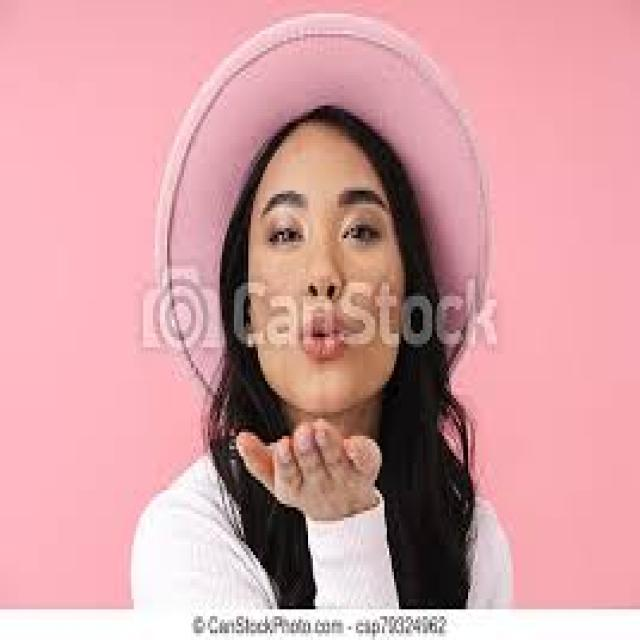hat: (151, 7, 499, 432)
